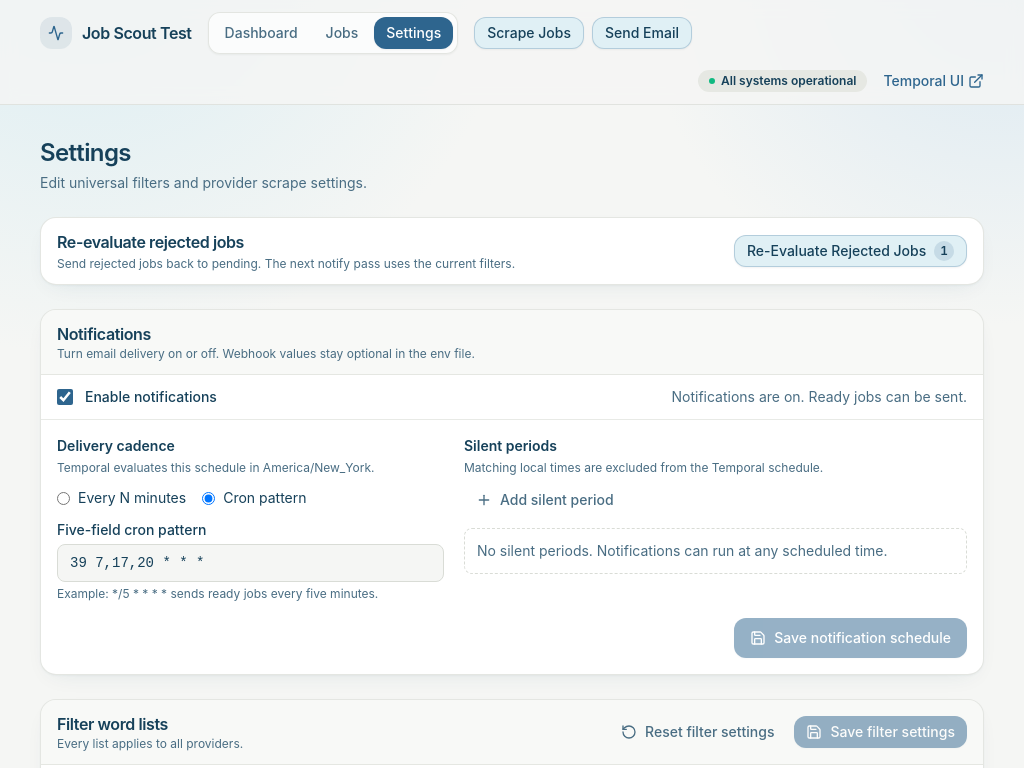
Test case: operator shell › toggles notification delivery from settings
The image size is (1024, 768).
Click the checkbox labelled "Enable notifications".
click(65, 397)  # box [57,389,73,405]
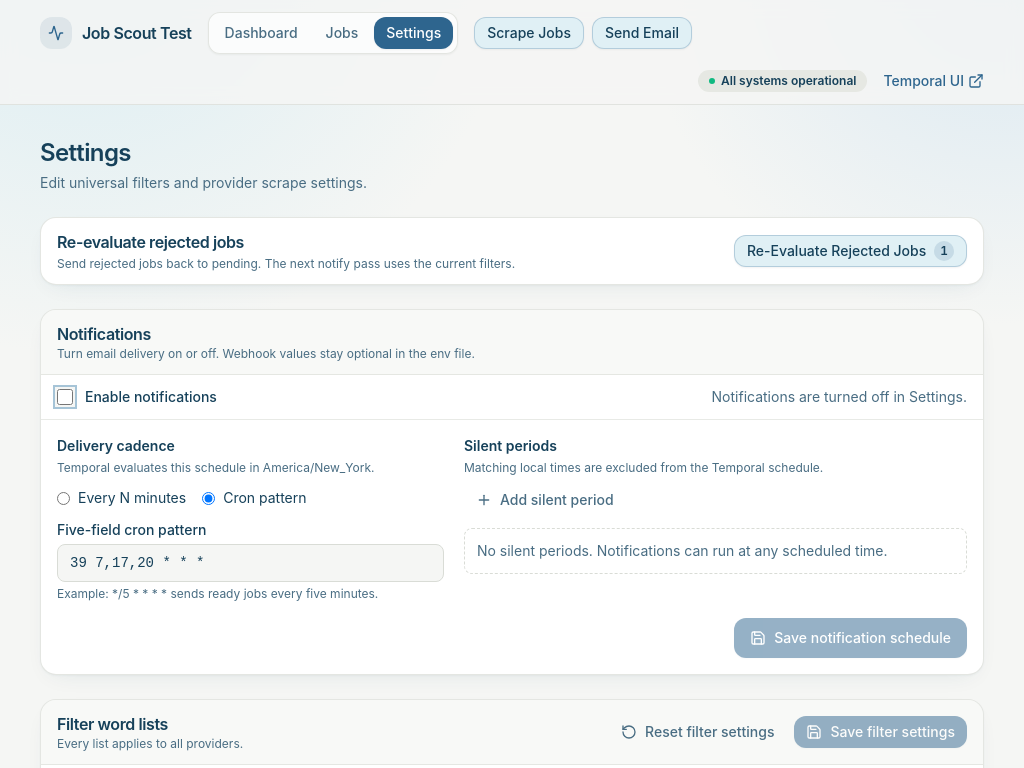
Expected: the text "Notifications are turned off in Settings." is shown, [712,387,967,407]
